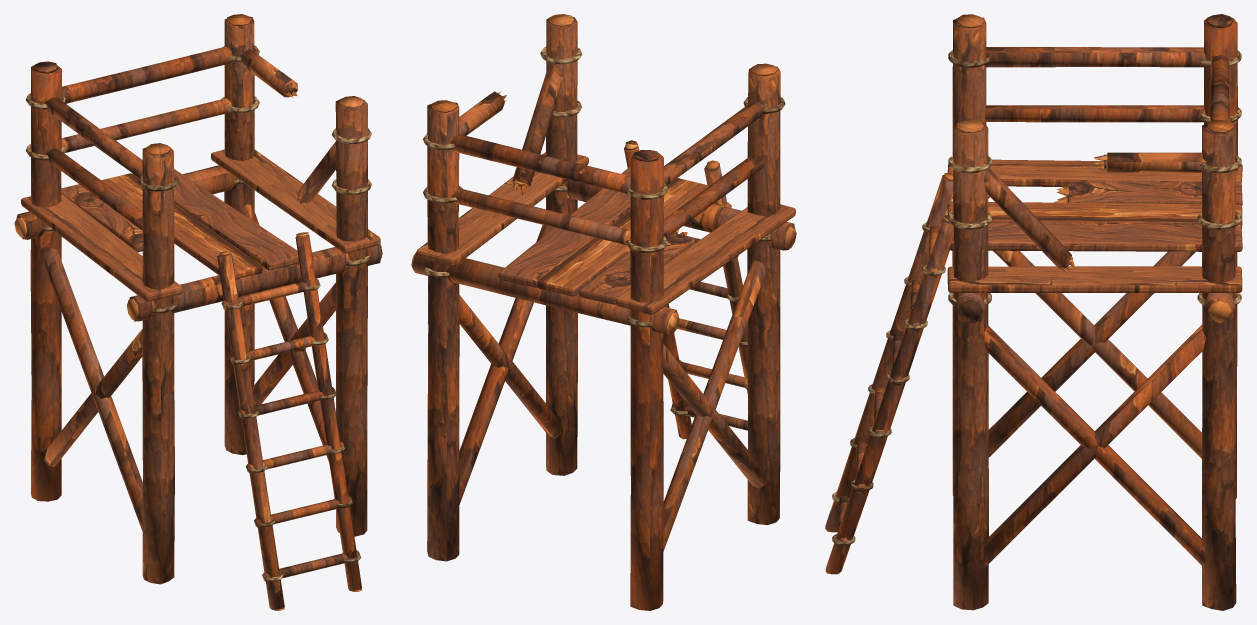
The model's file is ro_ladder_platform.glb.
3 views of the same model, side by side, from view 1: azimuth 30°, elevation 25°; view 2: azimuth 150°, elevation 25°; view 3: azimuth 270°, elevation 25° (orthographic). The views are drawn at different scales.
Visible parts, largest first — view 1: model; view 2: model; view 3: model.
Boxes of the visible parts, x1=… form: model: x1=14, y1=14, x2=382, y2=610; model: x1=411, y1=14, x2=796, y2=610; model: x1=825, y1=14, x2=1242, y2=610.
Size of the model in its own units: 1.26 by 2.11 by 1.67.
13 materials, 13 textured.
